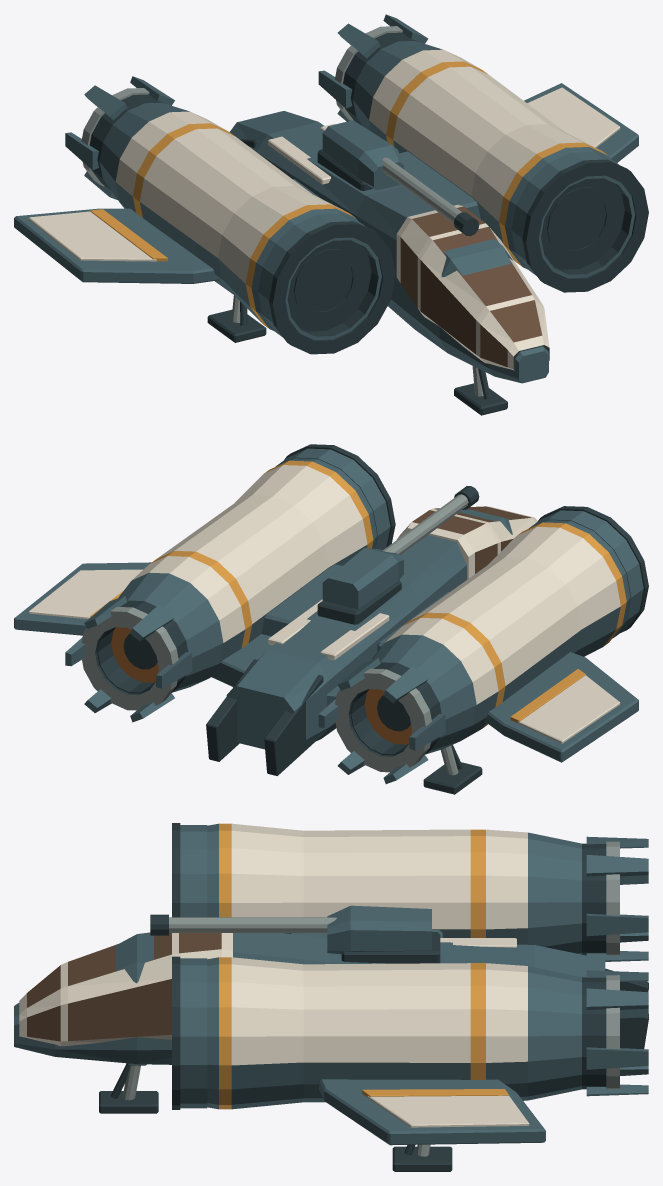
The model's file is buccaneer_01.glb.
The picture shows the model from 3 angles, top to bottom: view 1: azimuth 30°, elevation 25°; view 2: azimuth 150°, elevation 25°; view 3: azimuth 270°, elevation 25°; orthographic projection. The views are drawn at different scales.
Visible parts, largest first — view 1: buccaneer_01; view 2: buccaneer_01; view 3: buccaneer_01.
Boxes of the visible parts, x1,y1,x2,y2 form: buccaneer_01: [14, 14, 648, 415]; buccaneer_01: [14, 444, 648, 794]; buccaneer_01: [14, 823, 648, 1171].
Size of the model in its own units: 12.07 by 4.02 by 11.
